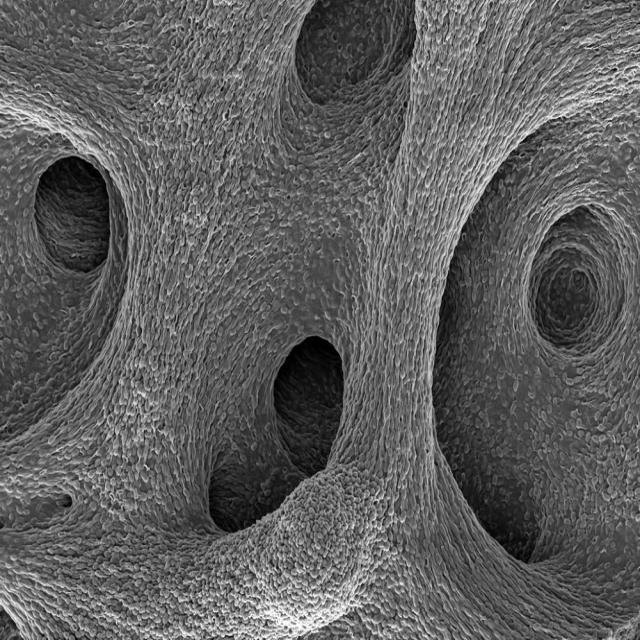Amoeba: (1, 2, 638, 640)
